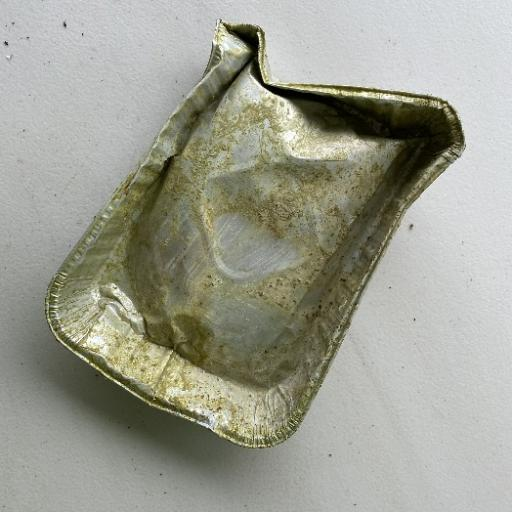Metal: (42, 18, 467, 450)
